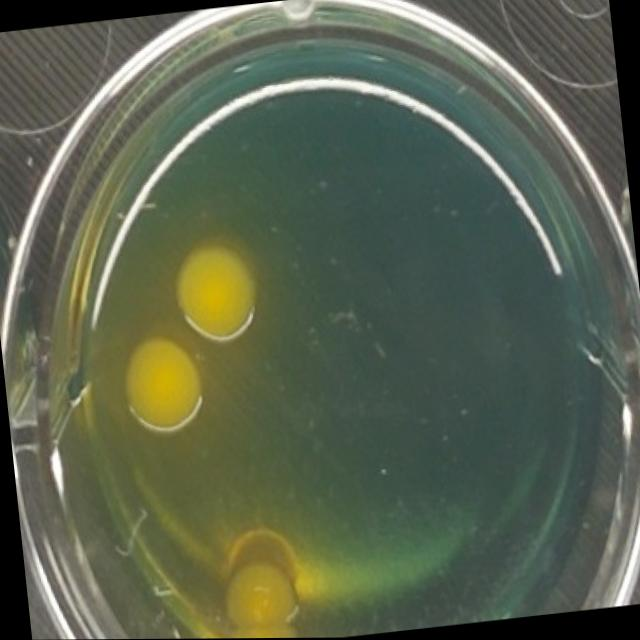vibrio: (111, 320, 212, 445), (167, 233, 265, 356), (210, 541, 310, 639)
